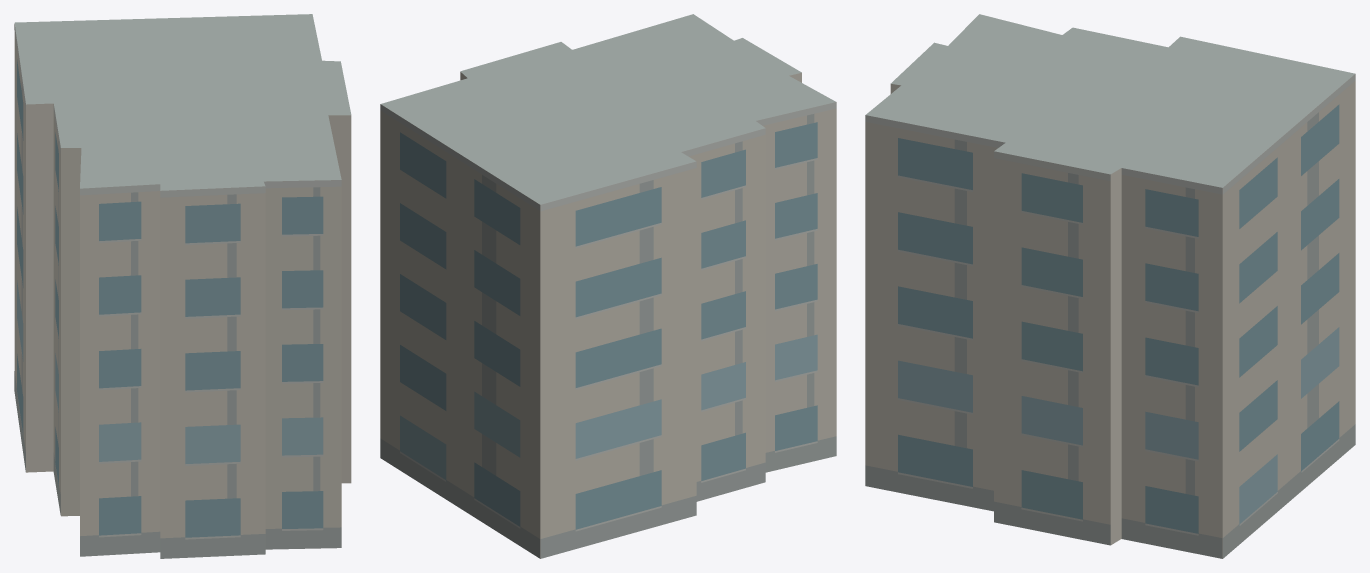
The model's file is survey-upis-32726264.glb.
The picture shows the model from 3 angles, left to right: view 1: azimuth 30°, elevation 25°; view 2: azimuth 150°, elevation 25°; view 3: azimuth 270°, elevation 25°; orthographic projection. The views are drawn at different scales.
Parts seen in each view (by area): view 1: survey-upis-32726264.tmp; view 2: survey-upis-32726264.tmp; view 3: survey-upis-32726264.tmp.
Part boxes in pixels (box(x1,y1,x2,y2)): survey-upis-32726264.tmp: box(14, 14, 351, 558); survey-upis-32726264.tmp: box(380, 14, 836, 558); survey-upis-32726264.tmp: box(865, 14, 1355, 558).
Bounding box in the file's own units: 13.27 × 13.2 × 15.81.
